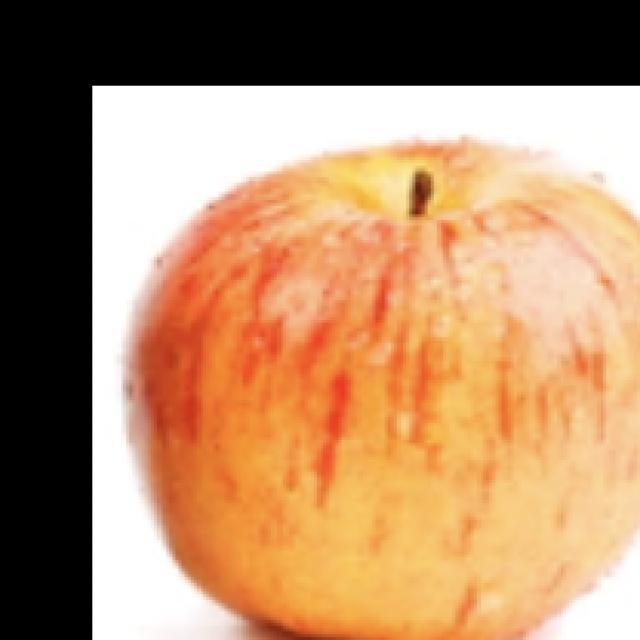Apple: (124, 135, 639, 639)
